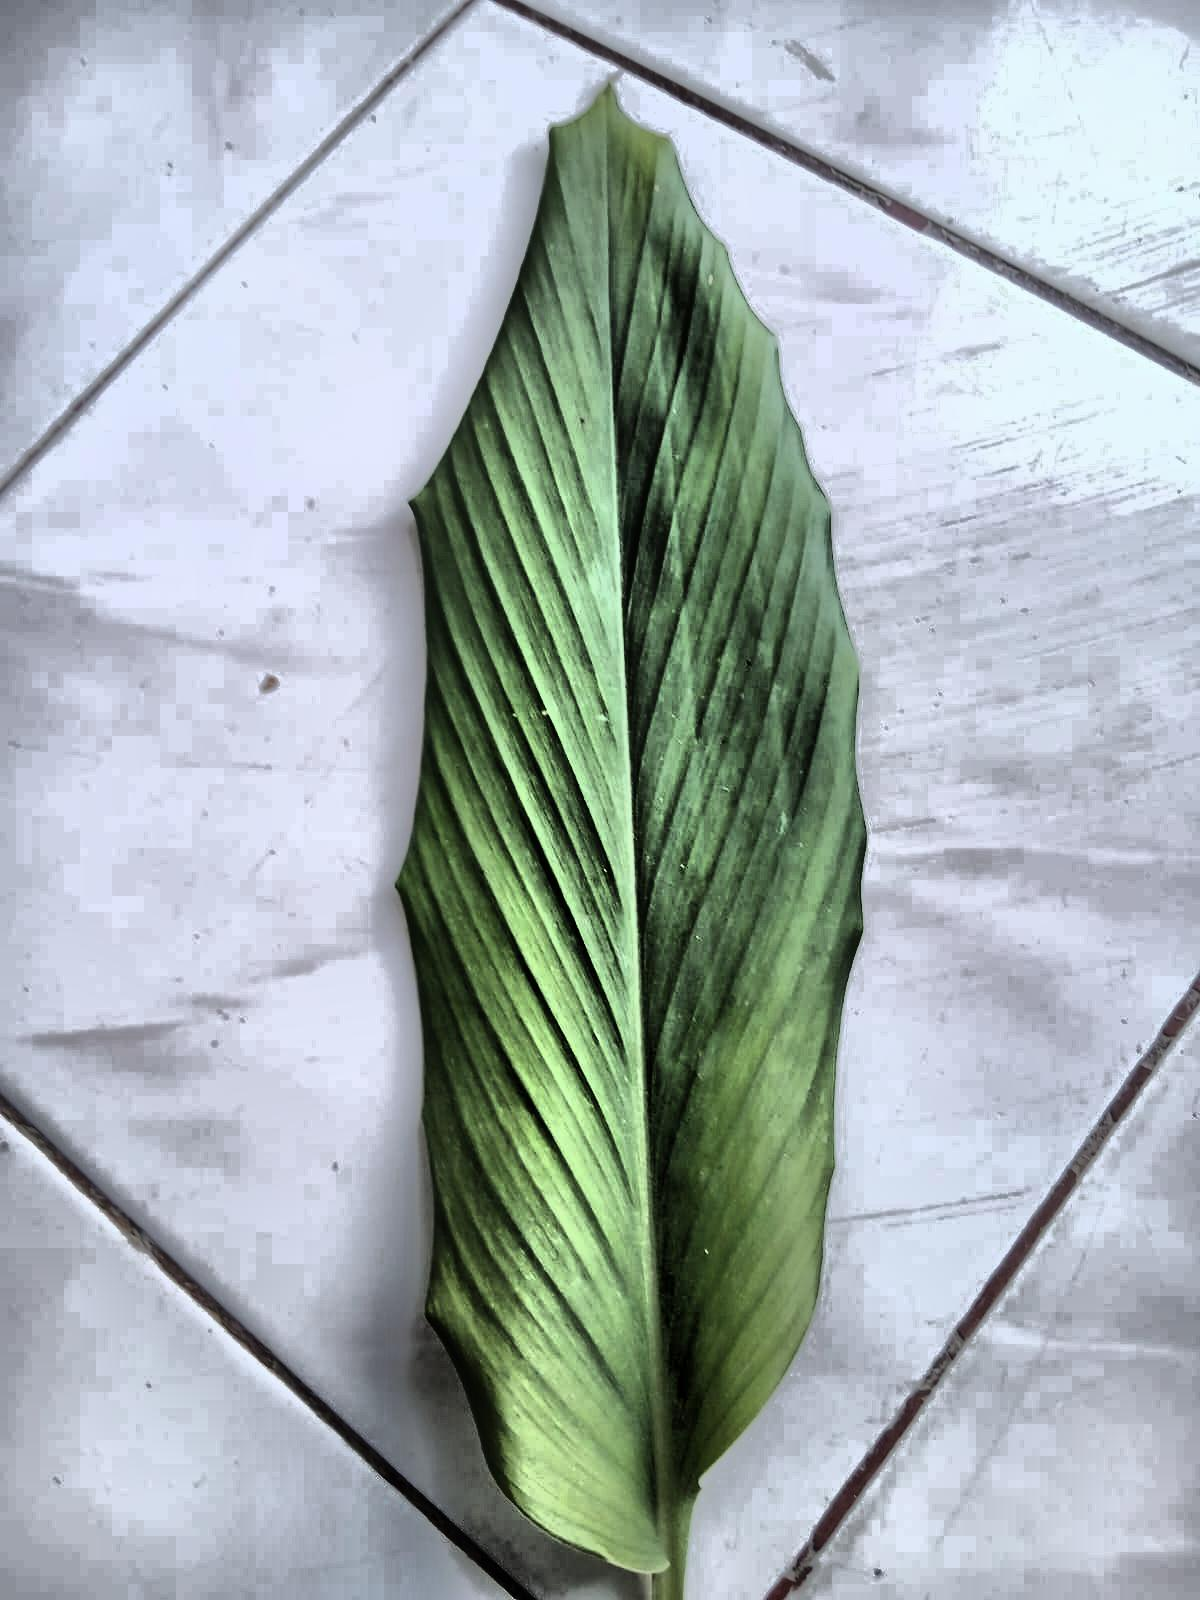daun kunyit: (398, 87, 866, 1599)
